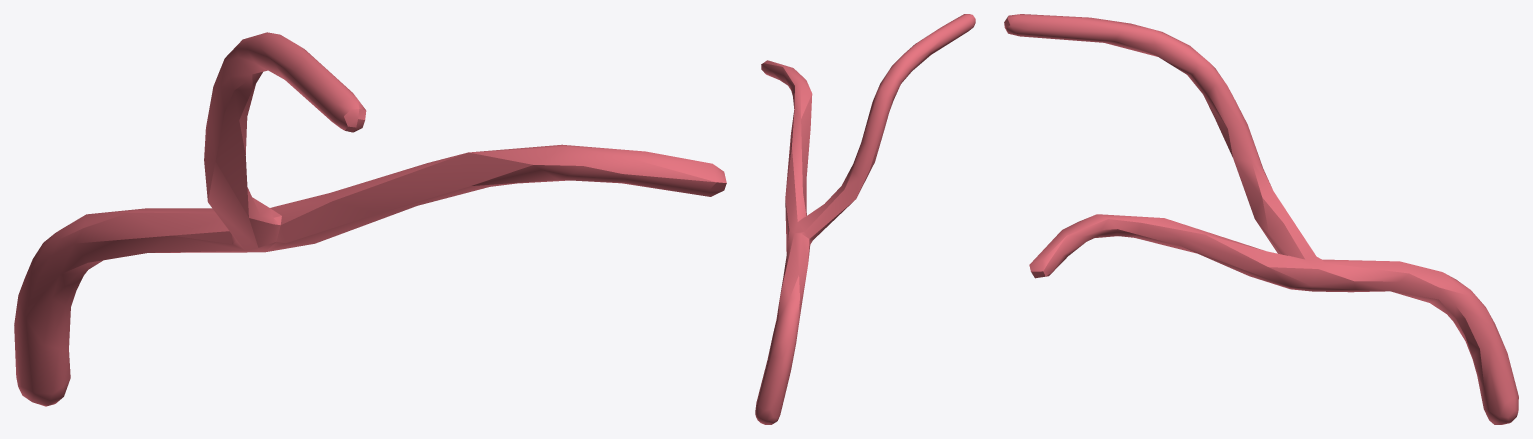
File: fma71710_fj1874.glb
3 renders of one model, left to right at view 1: azimuth 30°, elevation 25°; view 2: azimuth 150°, elevation 25°; view 3: azimuth 270°, elevation 25°, orthographic. The views are drawn at different scales.
Visible parts, largest first — view 1: FMA71710_FJ1874; view 2: FMA71710_FJ1874; view 3: FMA71710_FJ1874.
Boxes of the visible parts, x1,y1,x2,y2 form: FMA71710_FJ1874: (14, 32, 726, 406); FMA71710_FJ1874: (755, 14, 975, 424); FMA71710_FJ1874: (1004, 14, 1518, 424).
Size of the model in its own units: 0.00796 by 0.0107 by 0.0127.
